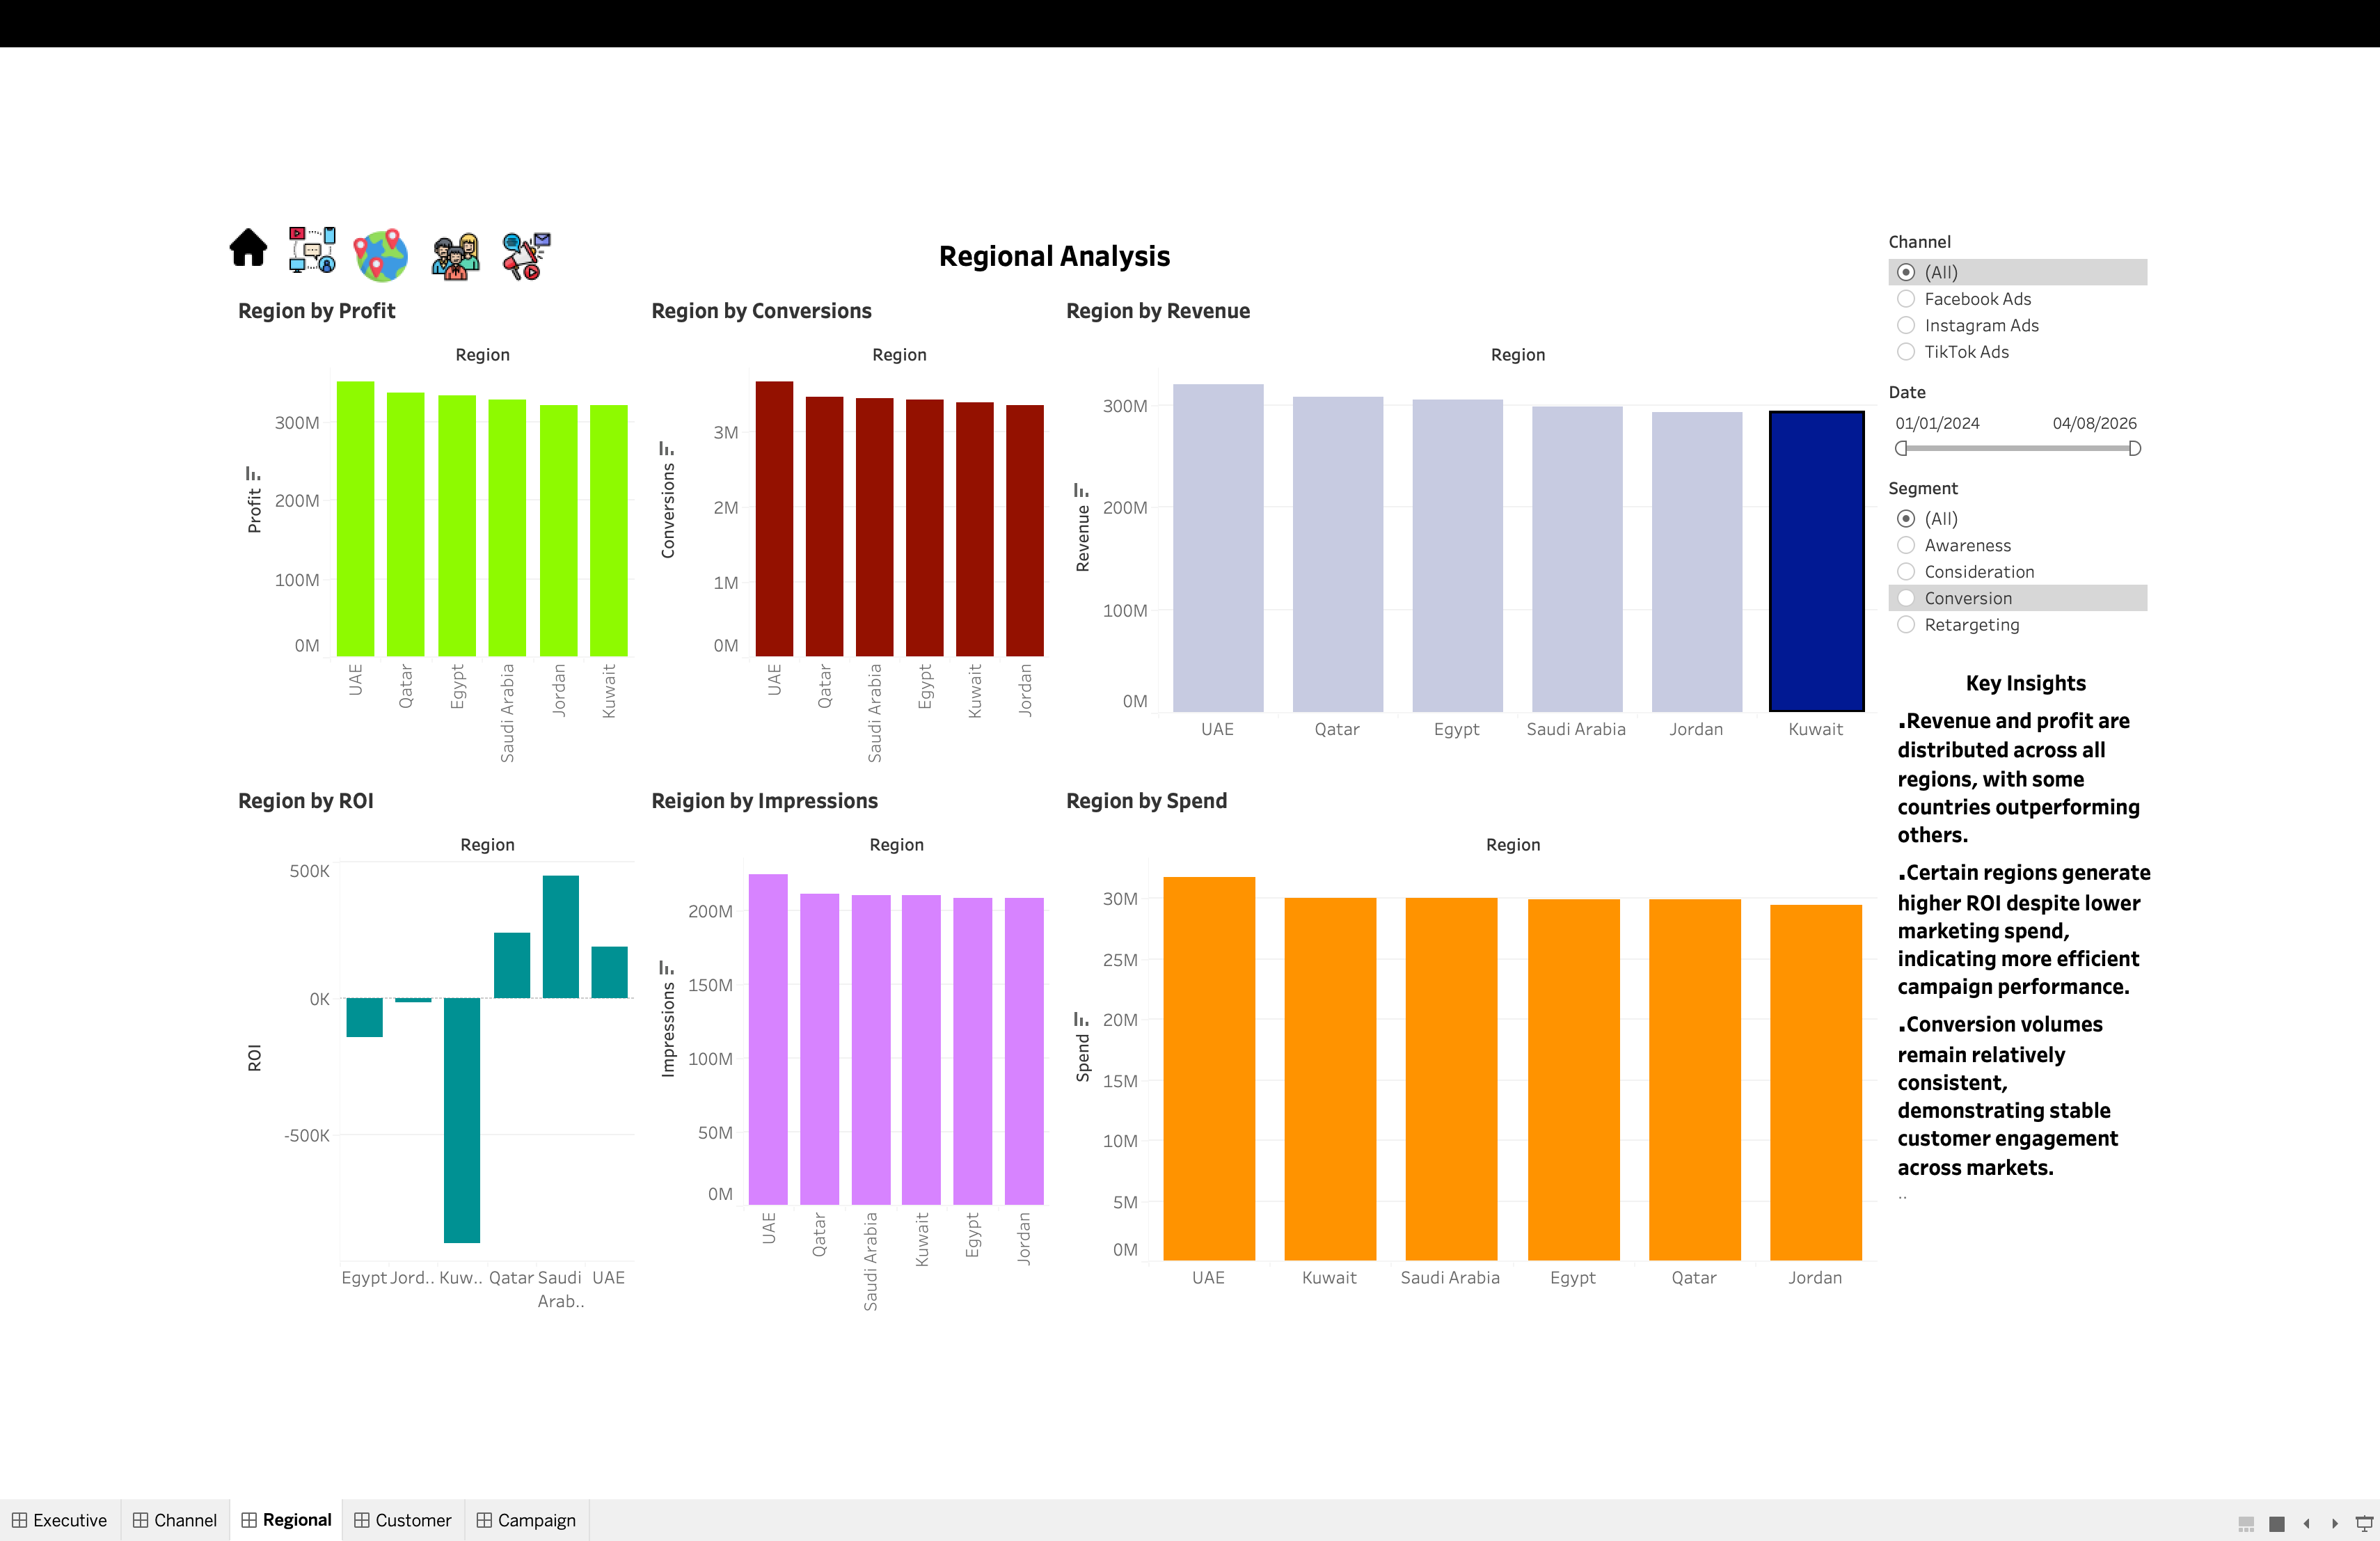

Layout of this report page (visuals, bound fields, positions):
{"tool":"tableau","page":{"name":"Regional","canvas":[1400,805],"ordinal":4},"visuals":[{"type":"text","box":[8,8,1190,43]},{"type":"filter","title":"Sheet 21","param":"[federated.07482ca1xi3uup1bdd56w1jny0fc].[none:channel:nk]","box":[1198,8,194,108]},{"type":"dashboard-object","box":[51,10,38,33]},{"type":"dashboard-object","box":[8,11,30,27]},{"type":"dashboard-object","box":[98,11,40,39]},{"type":"dashboard-object","box":[146,14,54,35]},{"type":"dashboard-object","box":[205,14,37,35]},{"type":"worksheet","title":"Sheet 17","mark":"Automatic","rows":["Profit"],"cols":["region"],"box":[8,51,297.5,351.5]},{"type":"worksheet","title":"Sheet 21","mark":"Automatic","rows":["conversions"],"cols":["region"],"box":[305.5,51,297.5,351.5]},{"type":"worksheet","title":"Sheet 18","mark":"Automatic","rows":["revenue"],"cols":["region"],"box":[603,51,595,351.5]},{"type":"filter","title":"Sheet 21","param":"[federated.07482ca1xi3uup1bdd56w1jny0fc].[none:date:qk]","box":[1198,116,194,69]},{"type":"filter","title":"Sheet 21","param":"[federated.07482ca1xi3uup1bdd56w1jny0fc].[none:segment:nk]","box":[1198,185,194,127]},{"type":"text","box":[1206,328,190,395]},{"type":"worksheet","title":"Sheet 19","mark":"Automatic","rows":["ROI"],"cols":["region"],"box":[8,402.5,297.5,394.5]},{"type":"worksheet","title":"Sheet 22","mark":"Automatic","rows":["impressions"],"cols":["region"],"box":[305.5,402.5,297.5,394.5]},{"type":"worksheet","title":"Sheet 20","mark":"Automatic","rows":["spend"],"cols":["region"],"box":[603,402.5,595,394.5]}]}

Visuals, with their boxes on the page's 1400x805 design canvas (x1, y1, x2, y2). These are canvas units, not pixel positions in the 2380x1541 screenshot, which may show the page scaled, cropped or inside an application window:
text: (left=8, top=8, right=1198, bottom=51)
"Sheet 21" filter: (left=1198, top=8, right=1392, bottom=116)
dashboard-object: (left=51, top=10, right=89, bottom=43)
dashboard-object: (left=8, top=11, right=38, bottom=38)
dashboard-object: (left=98, top=11, right=138, bottom=50)
dashboard-object: (left=146, top=14, right=200, bottom=49)
dashboard-object: (left=205, top=14, right=242, bottom=49)
"Sheet 17" worksheet: (left=8, top=51, right=306, bottom=402)
"Sheet 21" worksheet: (left=306, top=51, right=603, bottom=402)
"Sheet 18" worksheet: (left=603, top=51, right=1198, bottom=402)
"Sheet 21" filter: (left=1198, top=116, right=1392, bottom=185)
"Sheet 21" filter: (left=1198, top=185, right=1392, bottom=312)
text: (left=1206, top=328, right=1396, bottom=723)
"Sheet 19" worksheet: (left=8, top=402, right=306, bottom=797)
"Sheet 22" worksheet: (left=306, top=402, right=603, bottom=797)
"Sheet 20" worksheet: (left=603, top=402, right=1198, bottom=797)
